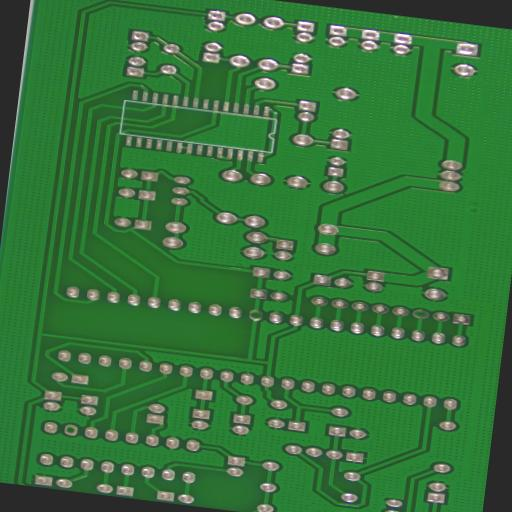missing_hole: (410, 308, 429, 320), (62, 424, 78, 436), (247, 309, 262, 321)
